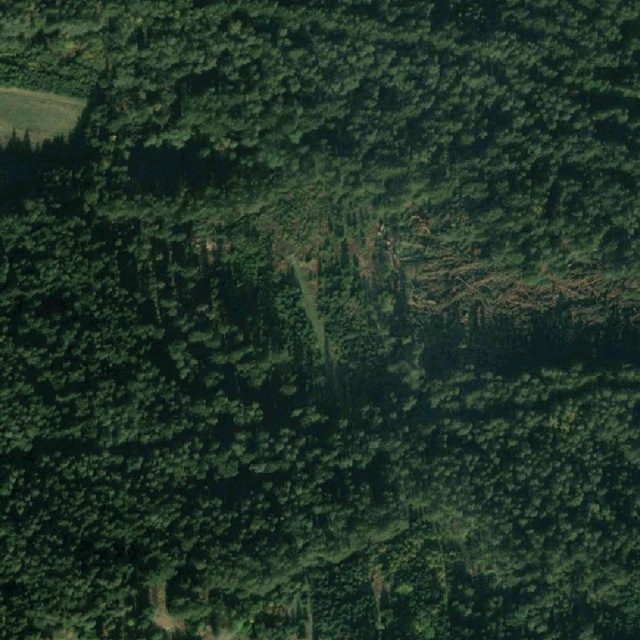vegetation: (0, 0, 640, 640)
